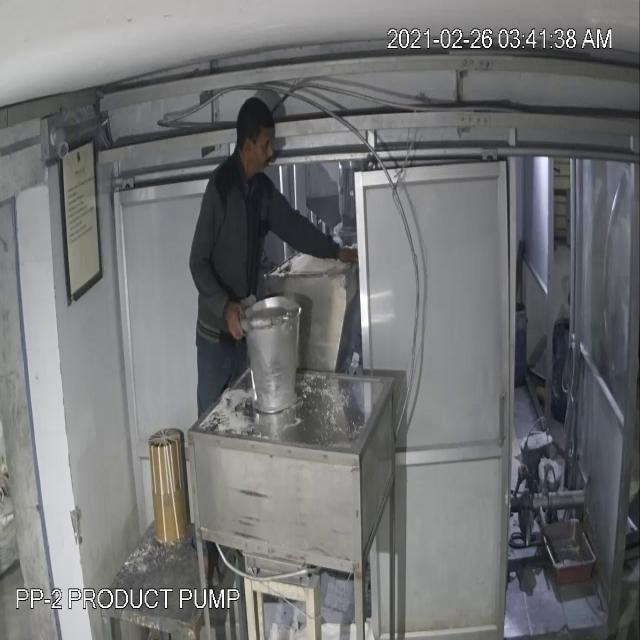no-helmet: (233, 95, 277, 182)
